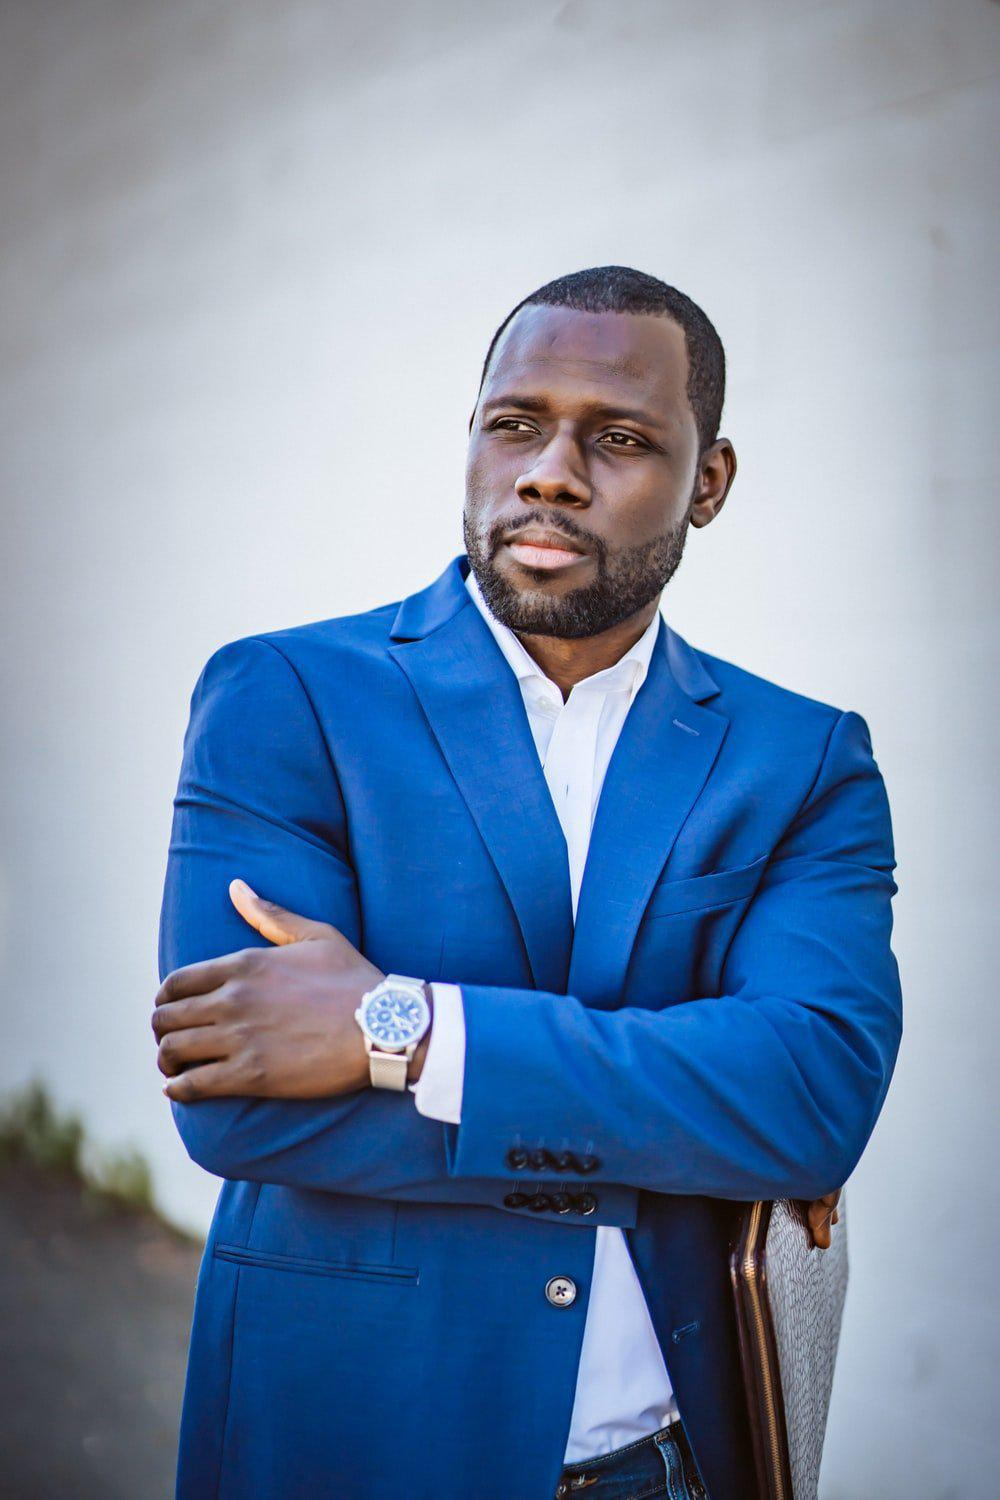Sober: (475, 327, 675, 610)
